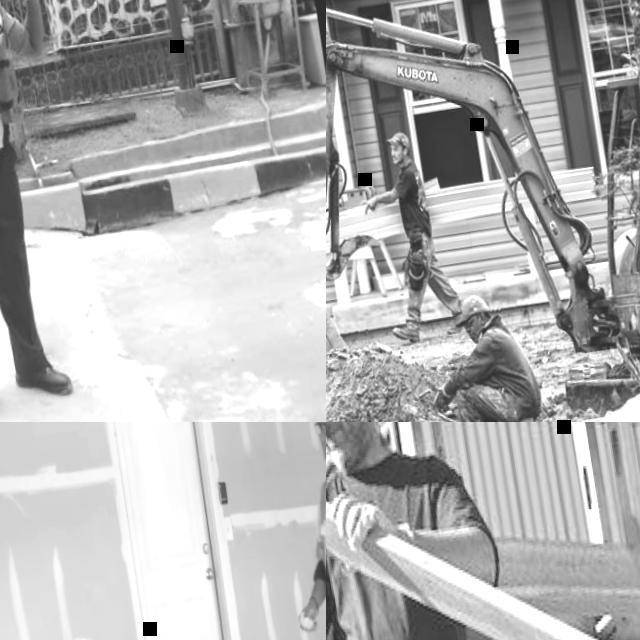NO-Hardhat: (452, 290, 492, 318), (386, 129, 413, 149)
NO-Mask: (326, 422, 372, 465), (392, 151, 406, 164), (469, 330, 481, 344)
NO-Safety Vest: (326, 452, 480, 640), (479, 324, 533, 397), (395, 164, 433, 231)
Person: (0, 0, 109, 422), (326, 422, 531, 640), (350, 123, 470, 347), (413, 284, 552, 422), (257, 422, 326, 640)
Safety Vest: (0, 0, 30, 154)
machinery: (326, 0, 640, 422)
